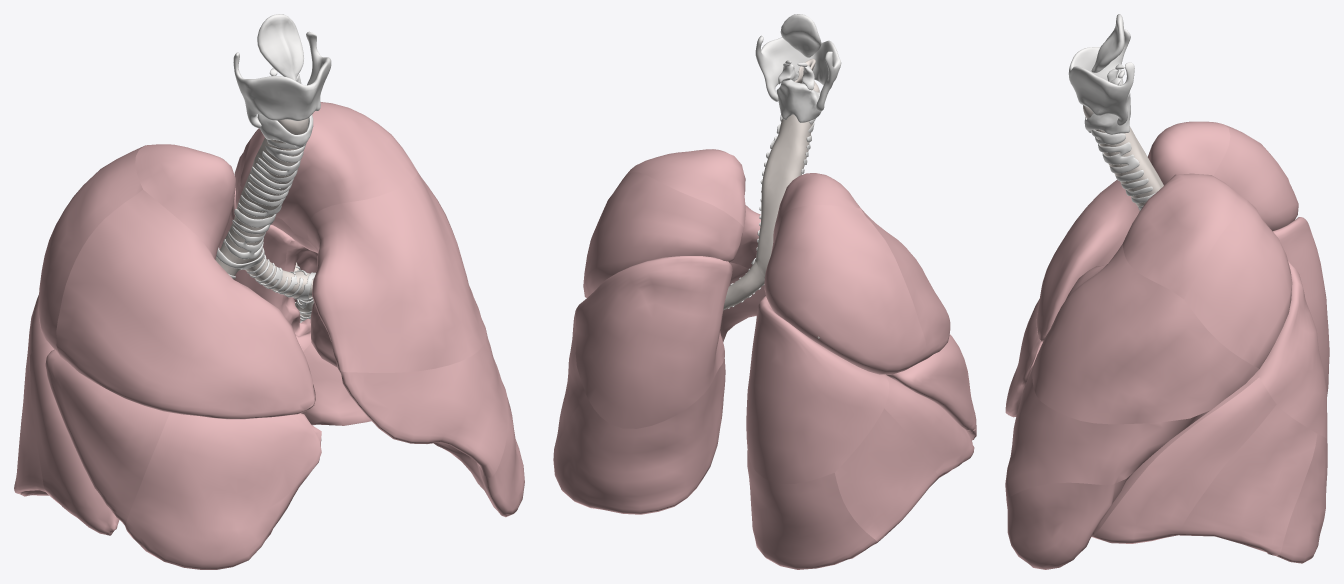
Rendered from lungs.glb.
3 views of the same model, side by side, from view 1: azimuth 30°, elevation 25°; view 2: azimuth 150°, elevation 25°; view 3: azimuth 270°, elevation 25° (orthographic). The views are drawn at different scales.
Parts seen in each view (by area): view 1: VH_M_hilum_L, VH_M_carina, VH_M_trachea, VH_M_bronchial_cartilage; view 2: VH_M_hilum_L, VH_M_trachea, VH_M_carina, VH_M_bronchial_cartilage; view 3: VH_M_hilum_L, VH_M_carina, VH_M_trachea, VH_M_bronchial_cartilage.
Boxes of the visible parts, x1=… form: VH_M_hilum_L: x1=14, y1=102, x2=524, y2=569; VH_M_carina: x1=216, y1=31, x2=331, y2=269; VH_M_trachea: x1=215, y1=118, x2=314, y2=321; VH_M_bronchial_cartilage: x1=223, y1=14, x2=315, y2=322; VH_M_hilum_L: x1=553, y1=149, x2=976, y2=569; VH_M_trachea: x1=723, y1=59, x2=819, y2=338; VH_M_carina: x1=751, y1=35, x2=841, y2=264; VH_M_bronchial_cartilage: x1=728, y1=14, x2=821, y2=308; VH_M_hilum_L: x1=1005, y1=121, x2=1329, y2=569; VH_M_carina: x1=1068, y1=29, x2=1155, y2=210; VH_M_trachea: x1=1083, y1=105, x2=1163, y2=206; VH_M_bronchial_cartilage: x1=1091, y1=14, x2=1124, y2=85.
Bounding box in the file's own units: 0.2594 × 0.3146 × 0.1897.
